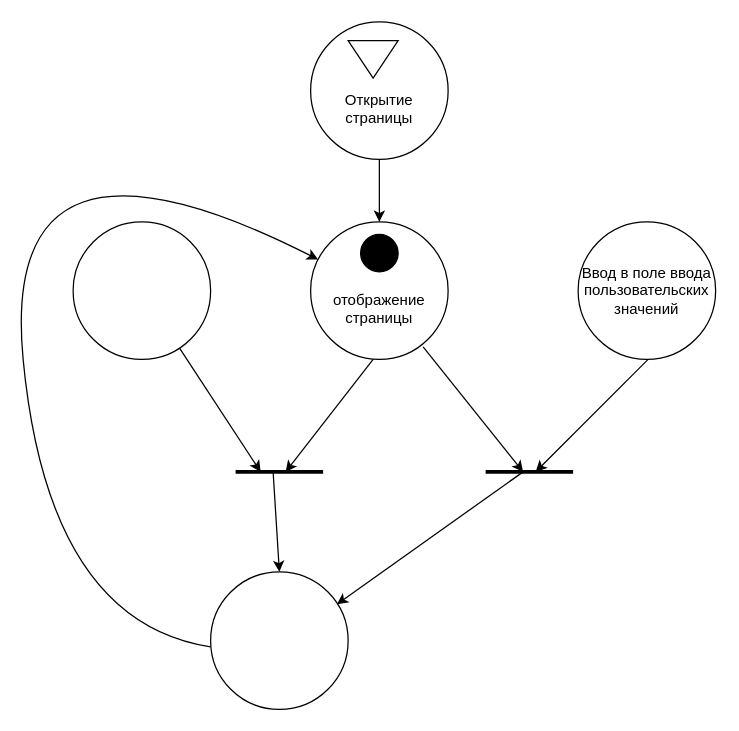
The diagram is 739 pixels wide and 731 high, and some of its shapes have lost their labels. The shapes that lost their labels are listed below. From the top down, each one's centre as x and y in pixels, then its label:
(x=141, y=290): Нажатие кнопок увеличения или уменьшения размера
(x=278, y=640): изменение размера SVG изображения с сохранением пропорций
